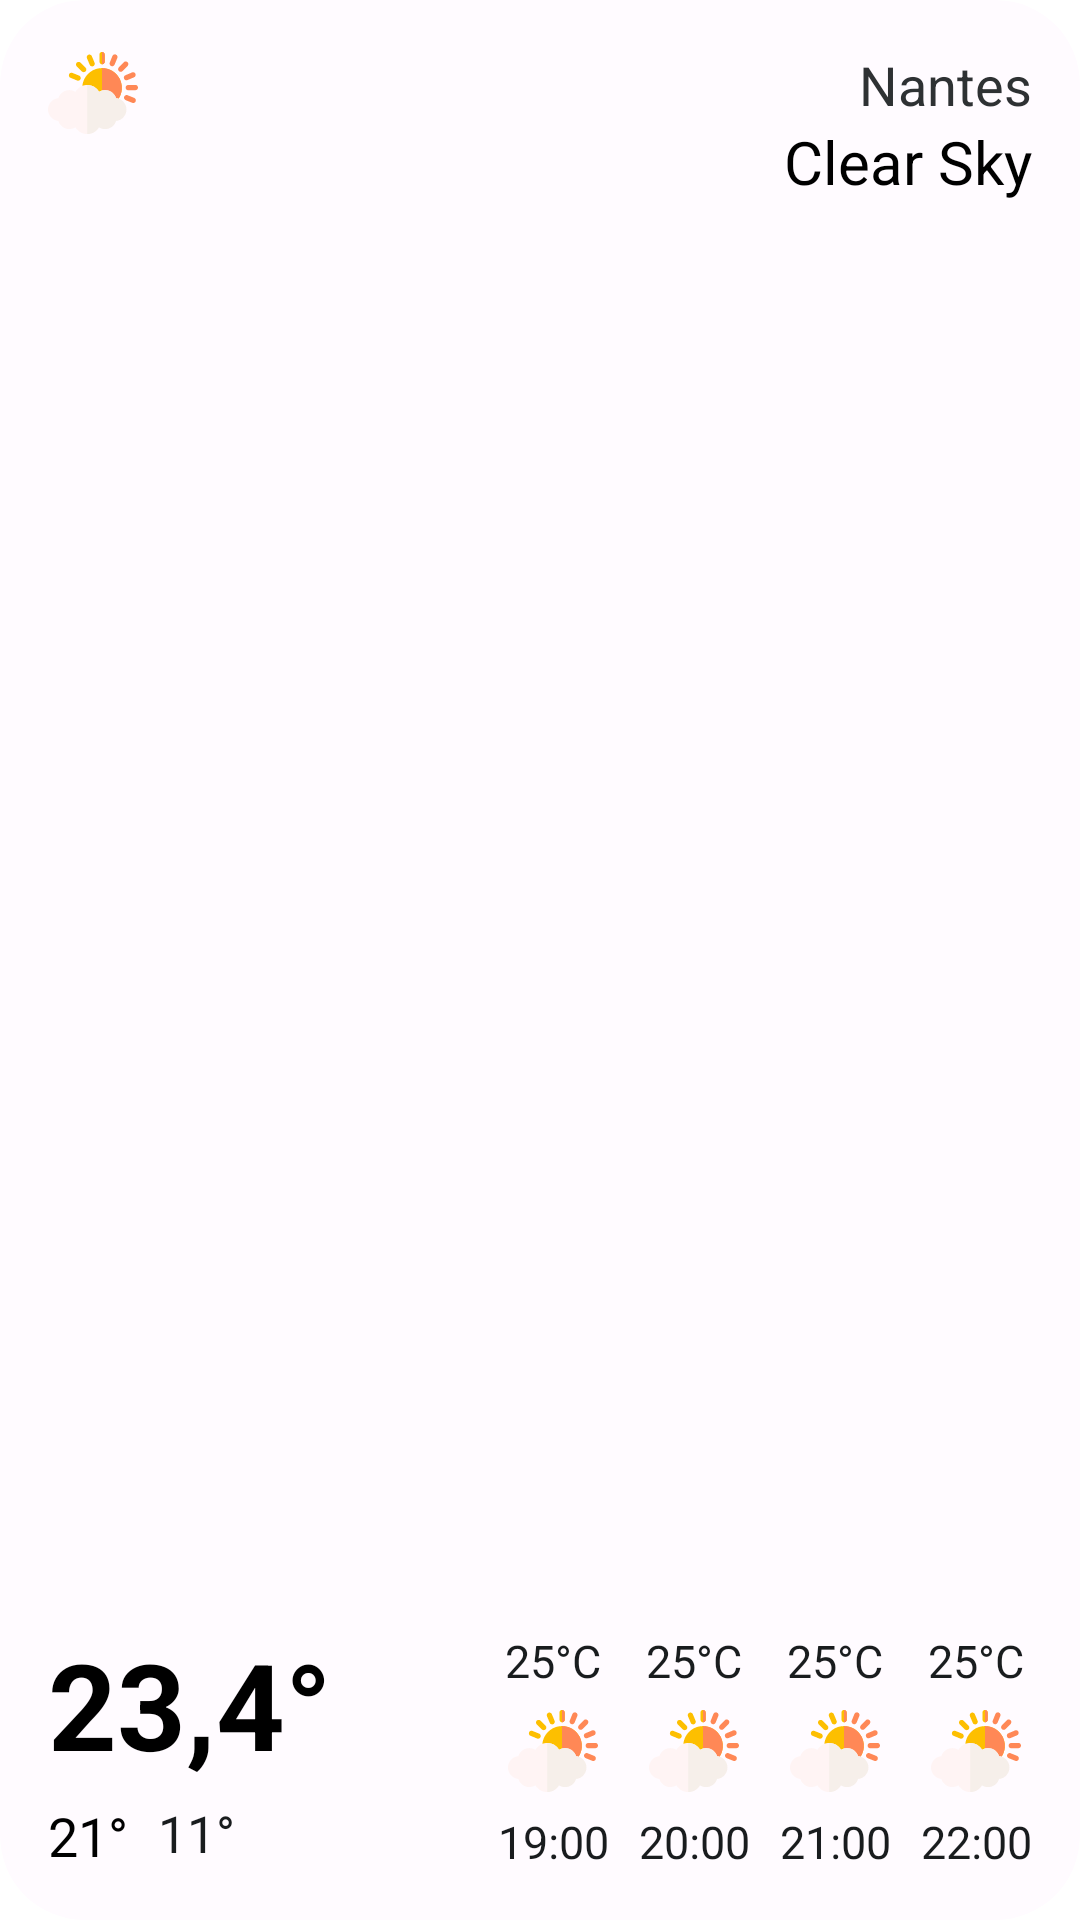

Icons on this 1080*1920 Android screen, each with the point to tap as point (x, y):
clouds and sun: point (103, 77), point (563, 1735), point (704, 1735), point (845, 1735), point (986, 1735)
